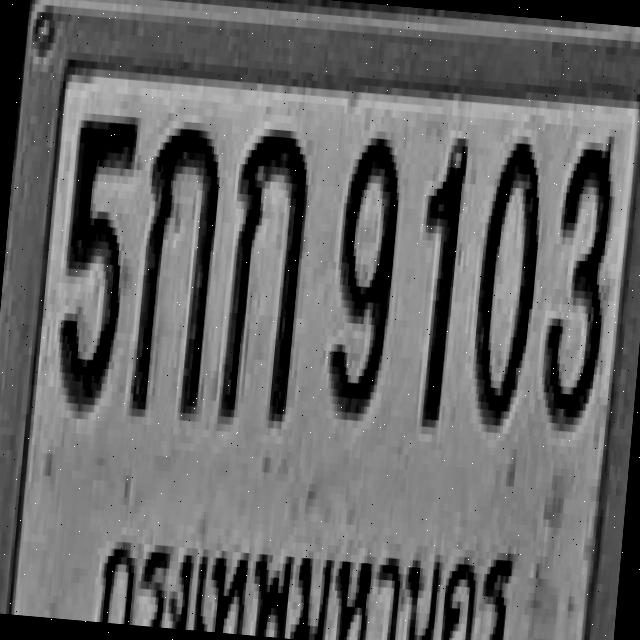0: (464, 133, 546, 427)
1: (406, 132, 468, 432)
10GorGai: (128, 115, 224, 418), (217, 120, 313, 422)
3: (538, 136, 616, 430)
5: (52, 108, 140, 410)
9: (324, 128, 402, 415)
Bangkok: (86, 500, 528, 640)
